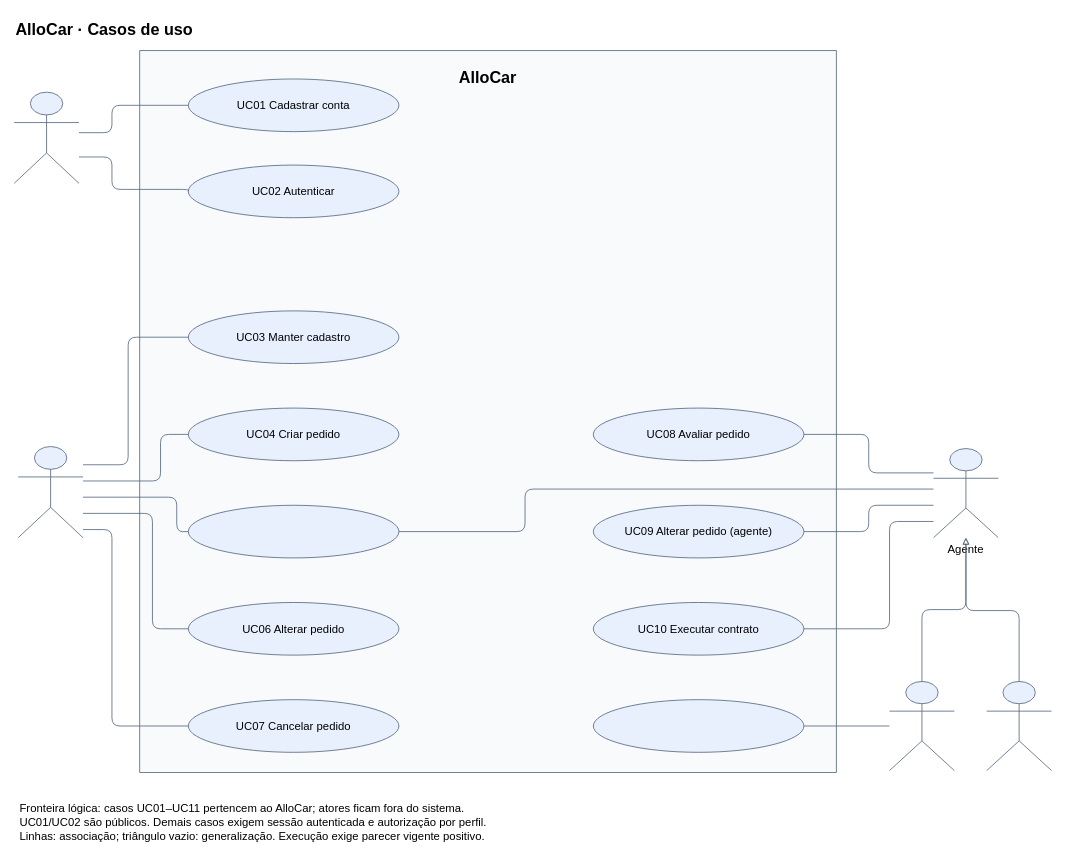
Some shapes in this 1066 by 868 pixel diagram are drawn without their labels. The centre of each missing label's shape, as x and y in pixels:
Banco: point 921,726
Cliente: point 50,492
Empresa: point 1019,726
UC05 Consultar pedidos: point 293,531
UC11 Associar crédito: point 698,725
Visitante: point 46,137
